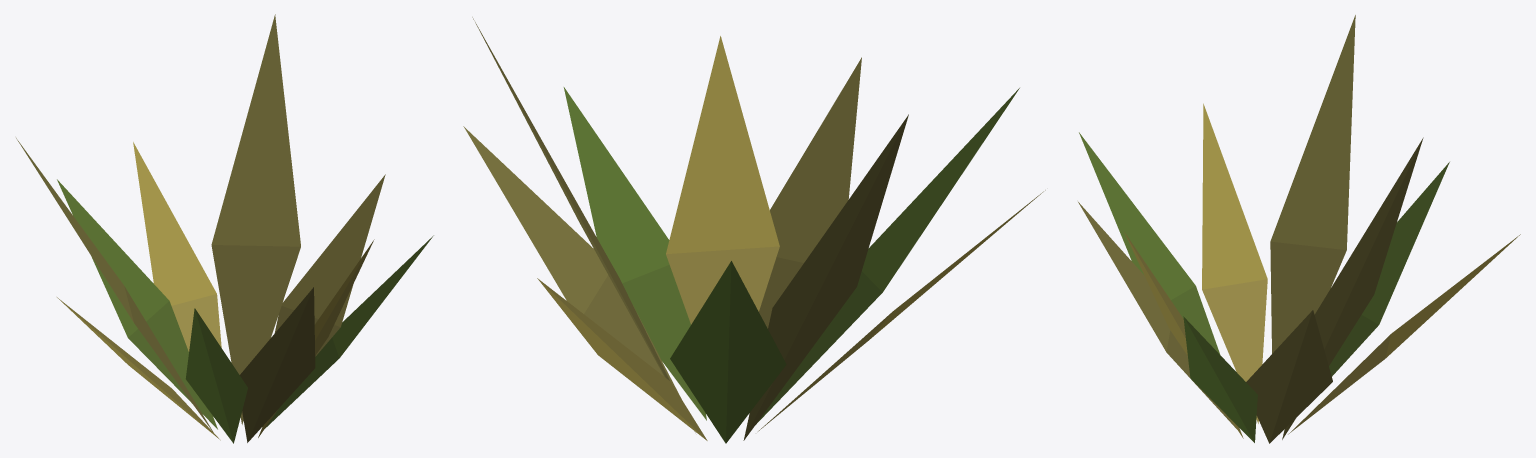
The model's file is E9_grass_tuft_c.glb.
3 renders of one model, left to right at view 1: azimuth 30°, elevation 25°; view 2: azimuth 150°, elevation 25°; view 3: azimuth 270°, elevation 25°, orthographic. The views are drawn at different scales.
Visible parts, largest first — view 1: E9_grass_tuft_c; view 2: E9_grass_tuft_c; view 3: E9_grass_tuft_c.
Boxes of the visible parts, bbox=[...] form: E9_grass_tuft_c: bbox=[16, 14, 433, 443]; E9_grass_tuft_c: bbox=[463, 17, 1045, 443]; E9_grass_tuft_c: bbox=[1078, 15, 1520, 443].
Size of the model in its own units: 0.3556 by 0.3 by 0.3403.
